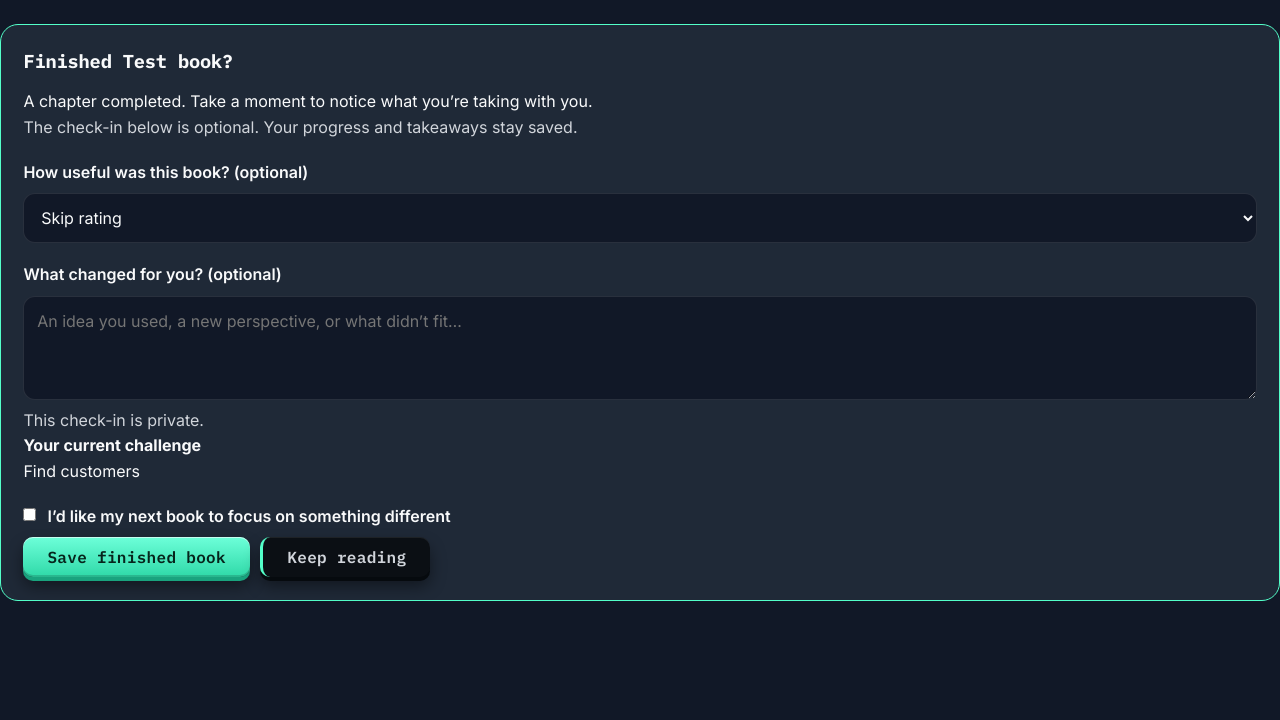
Test: a stale finish requires refresh instead of overwriting newer work
The width and height of the screenshot is (1280, 720).
Click the button "Save finished book" at (137, 557), box [23, 537, 250, 577]
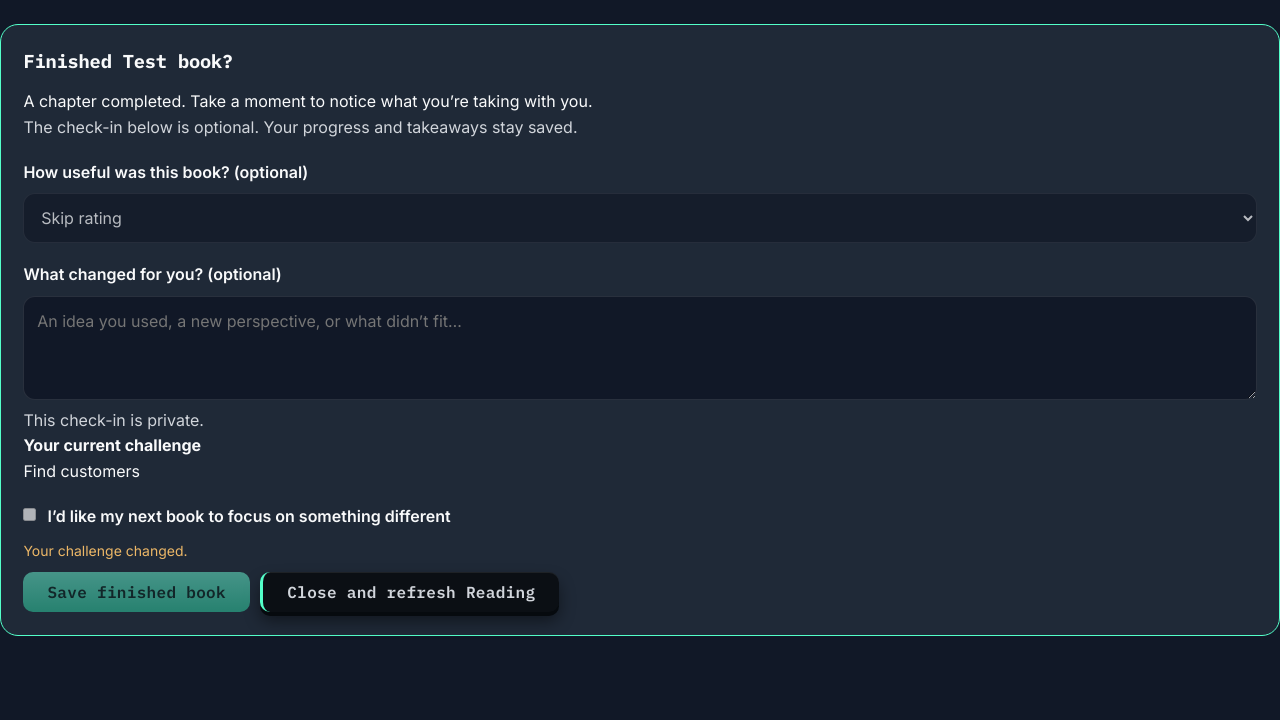
Now the button "Save finished book" is disabled, box [23, 572, 250, 612]
Now the button "Close and refresh Reading" is shown, box [260, 572, 559, 612]
